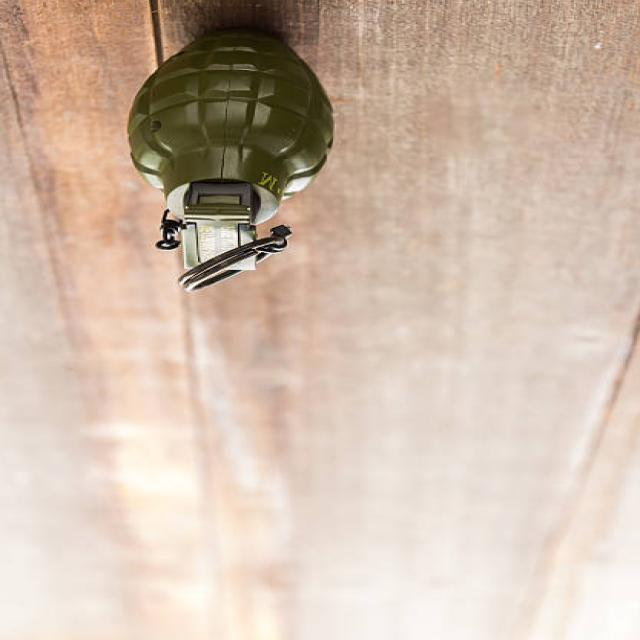grenade: (116, 28, 346, 294)
